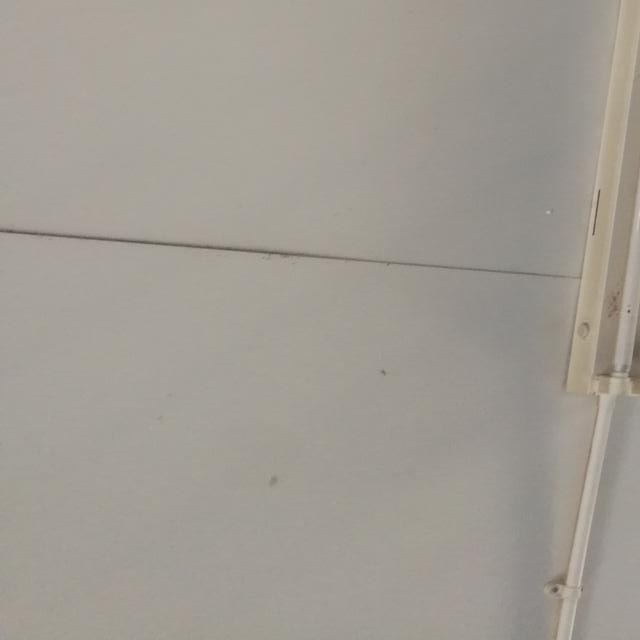fluorescent tube: (542, 0, 640, 405)
